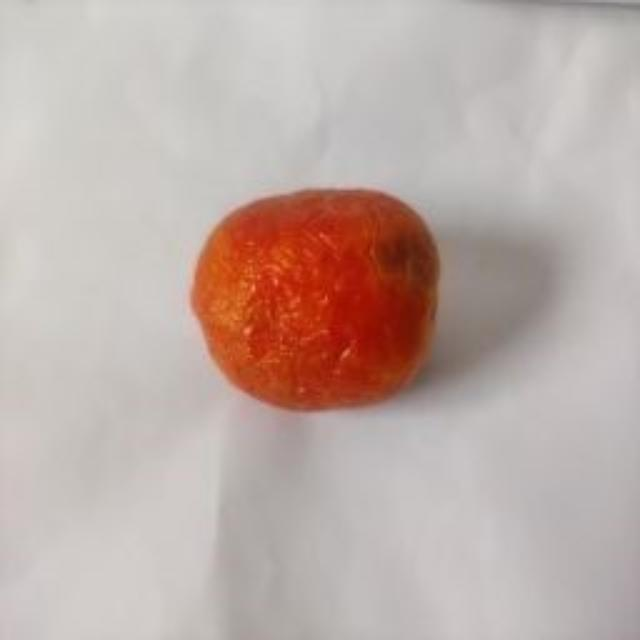defect: (184, 183, 441, 414)
